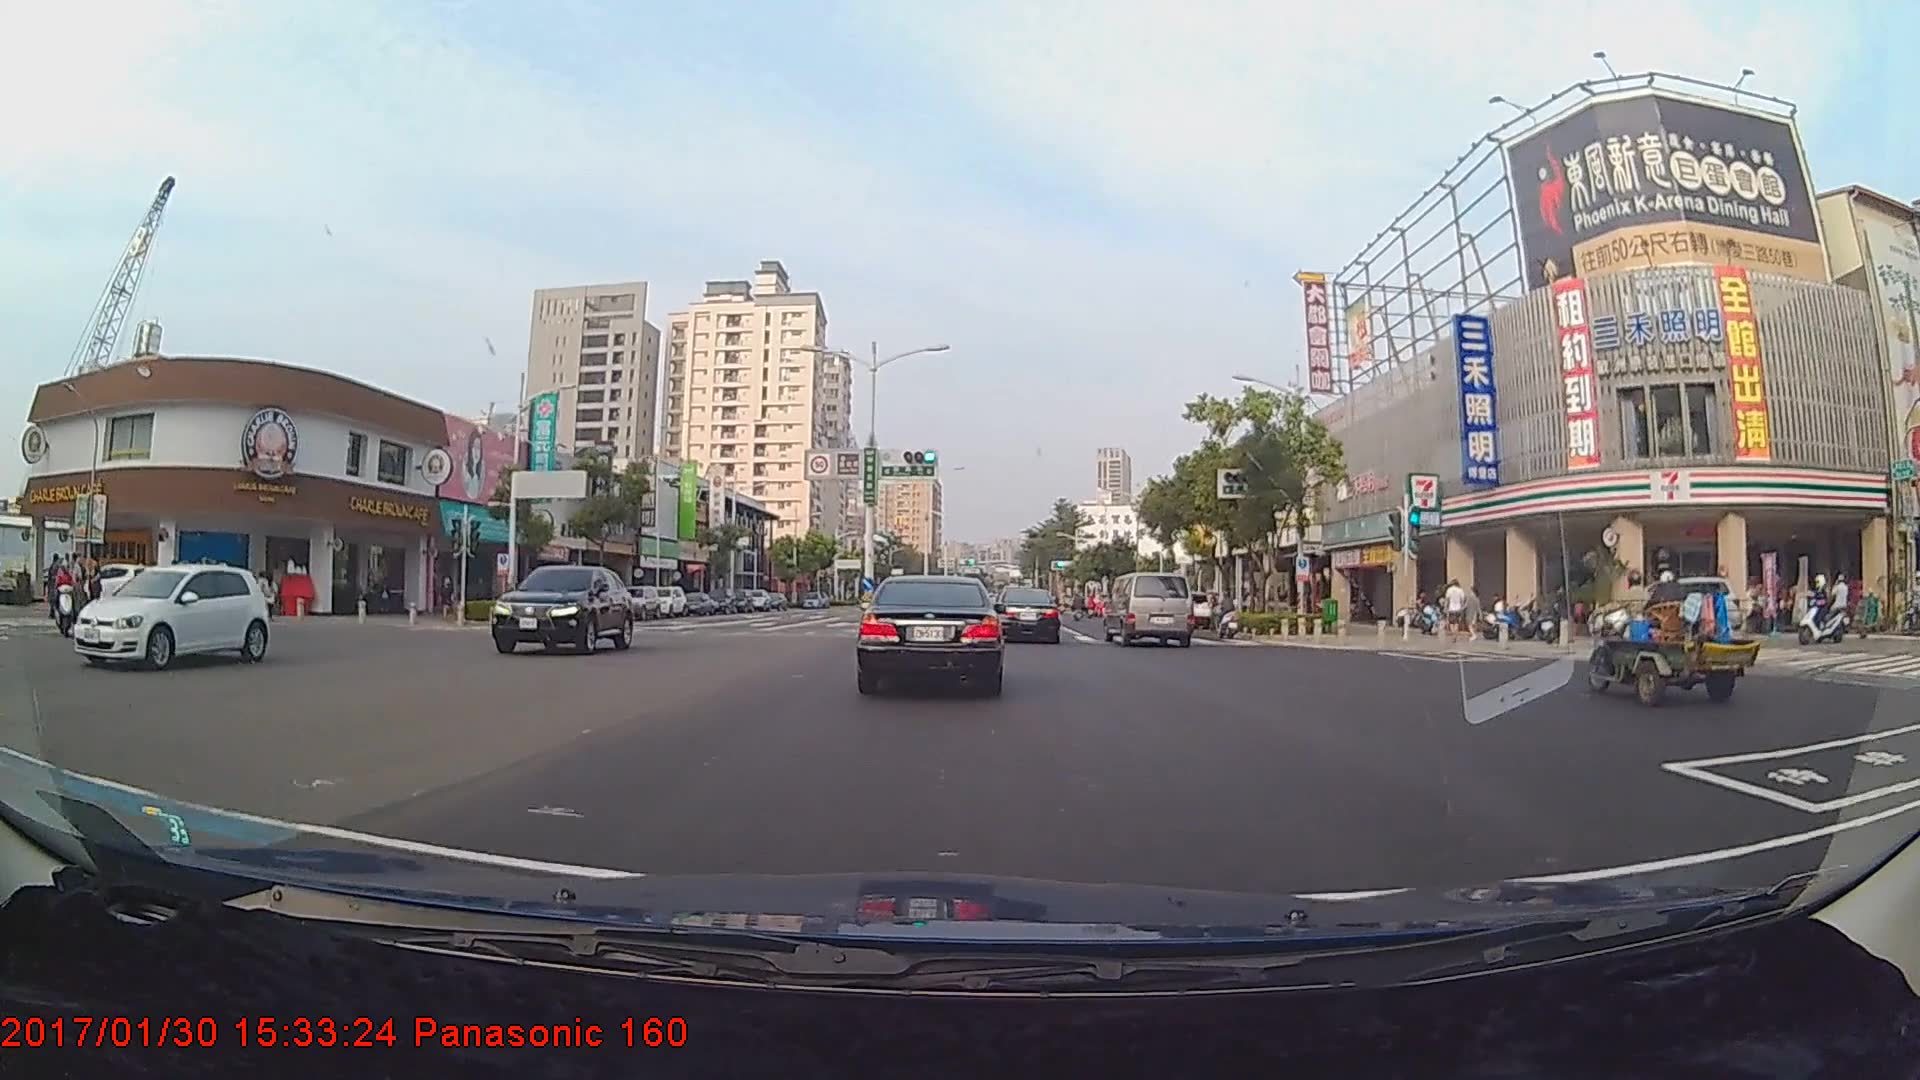pedestrian: (1444, 580, 1468, 645), (438, 574, 459, 622)
rider: (1790, 570, 1856, 650), (47, 557, 91, 635), (1214, 590, 1251, 647)
vehicle: (87, 558, 267, 667), (858, 570, 1005, 695), (493, 562, 635, 655), (1588, 574, 1736, 638), (1106, 571, 1193, 648), (992, 587, 1062, 644)
